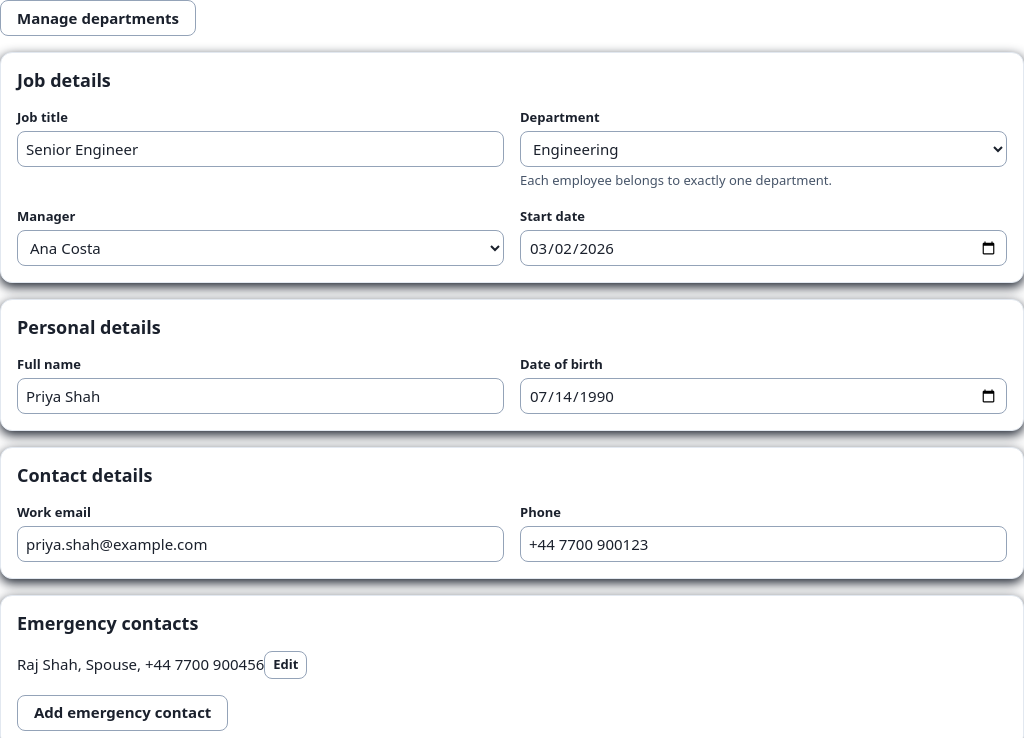
Test case: EmployeeRecordPage: existing record › saves a changed job title and toasts (AC2)
Step 1. Replace the text in the field labelled "Job title" with "Staff Engineer" → (260, 149), box top-left (17, 131), bottom-right (504, 167)
(page scrolled)
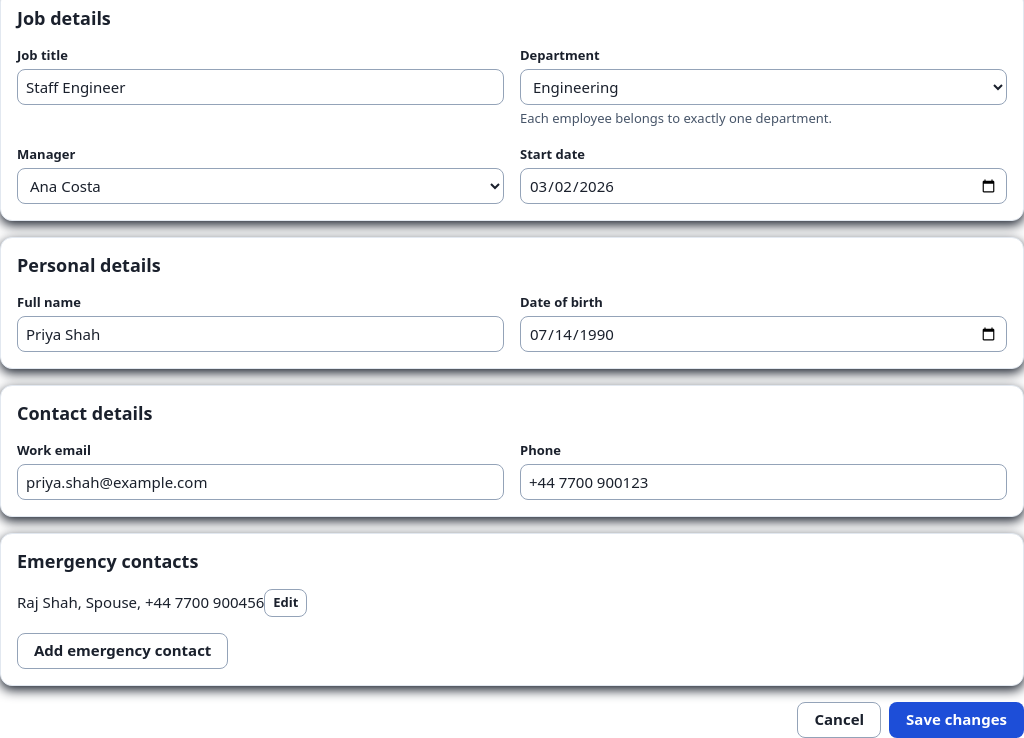
Step 2. Click the button "Save changes" → click(957, 720), box top-left (889, 702), bottom-right (1023, 737)
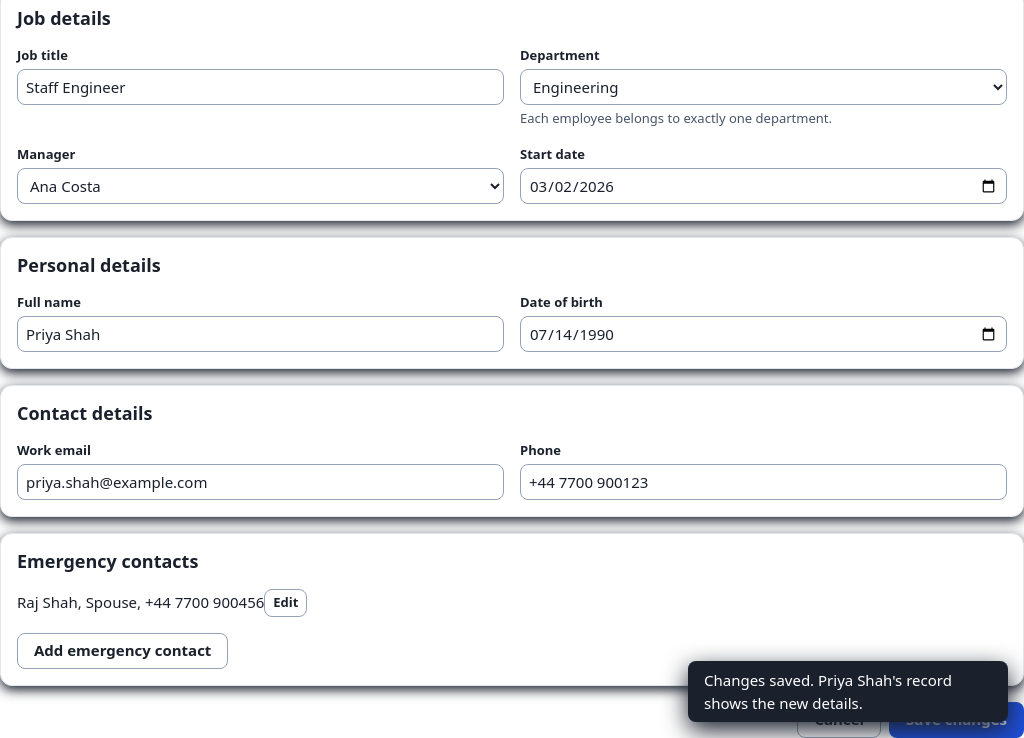
Check: the text "Changes saved. Priya Shah's record shows the new details." is shown, box top-left (688, 661), bottom-right (1008, 722)
